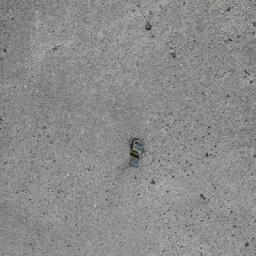FOD: (127, 135, 147, 174)
